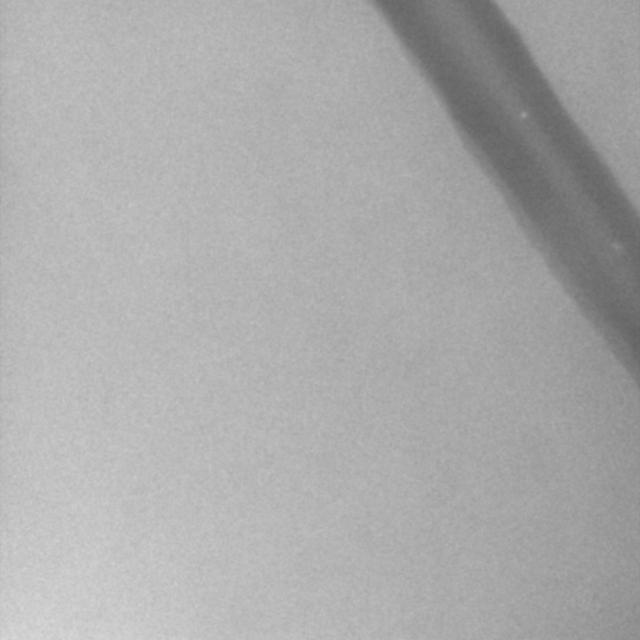air hole: (518, 107, 528, 118)
